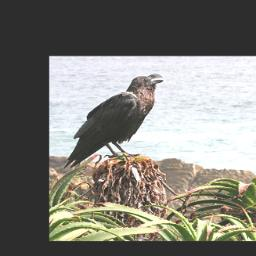Crow: (61, 72, 169, 170)
